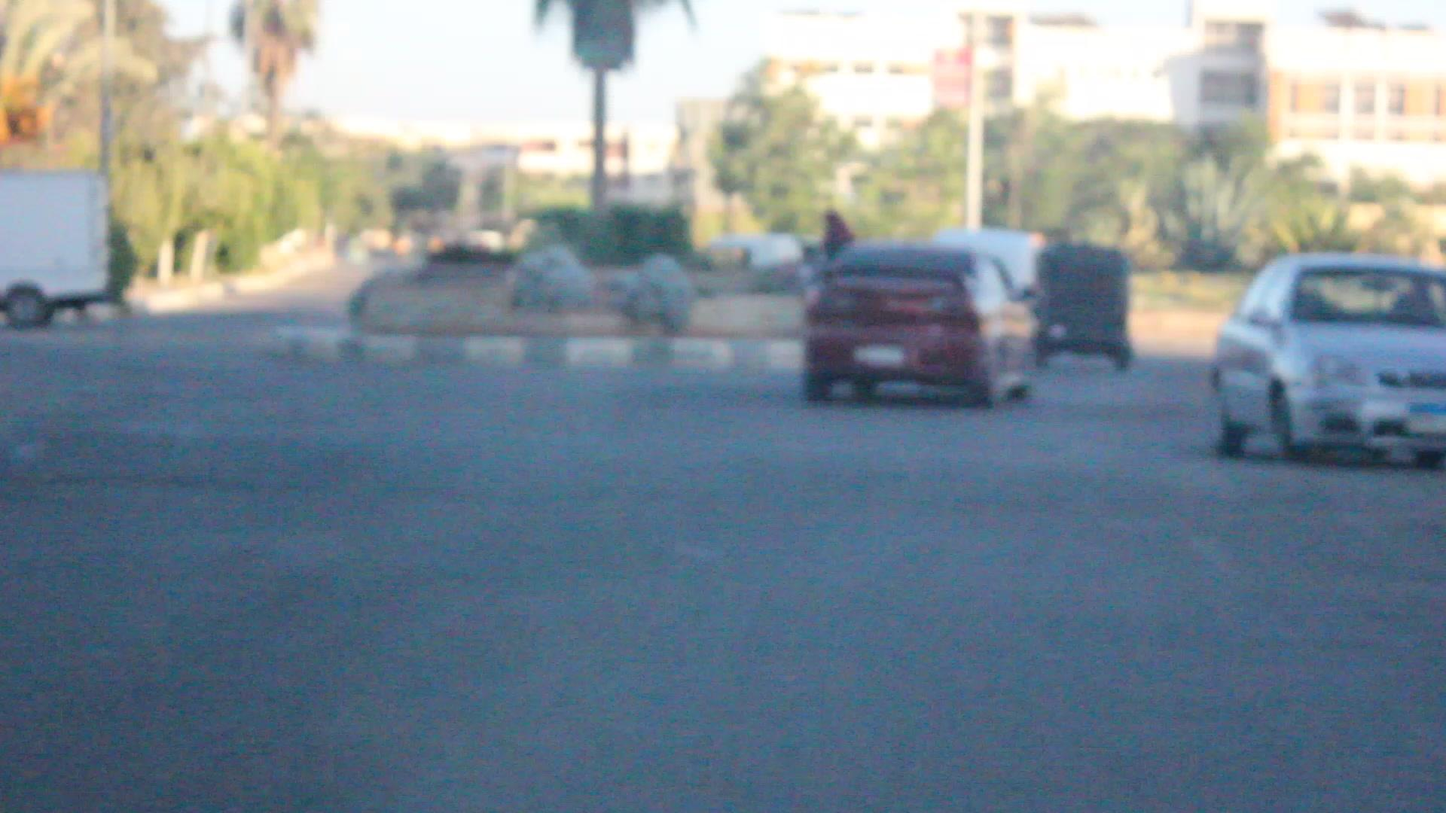Bump: (0, 423, 1446, 523)
